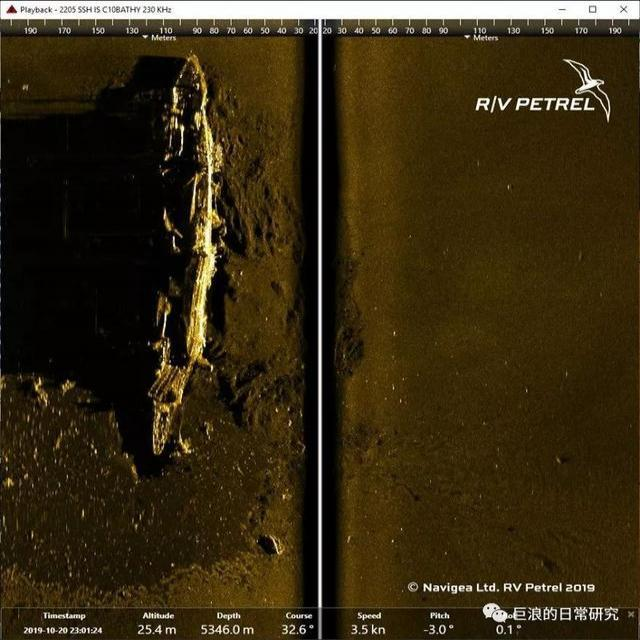shipwreck: (147, 49, 217, 456)
